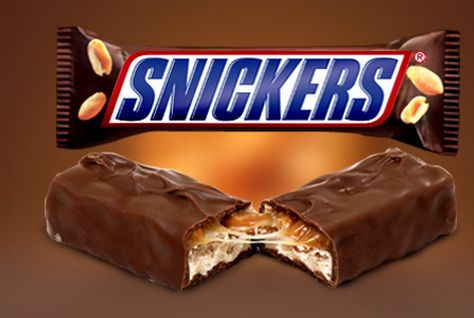snickers: (114, 55, 398, 122)
